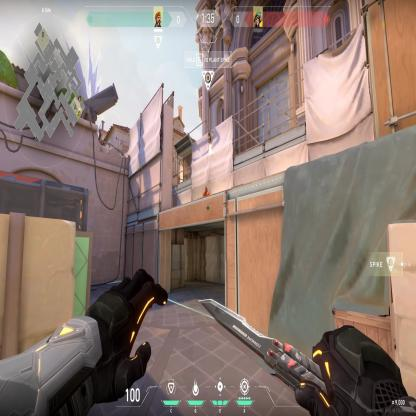enemy: (203, 184, 209, 197)
